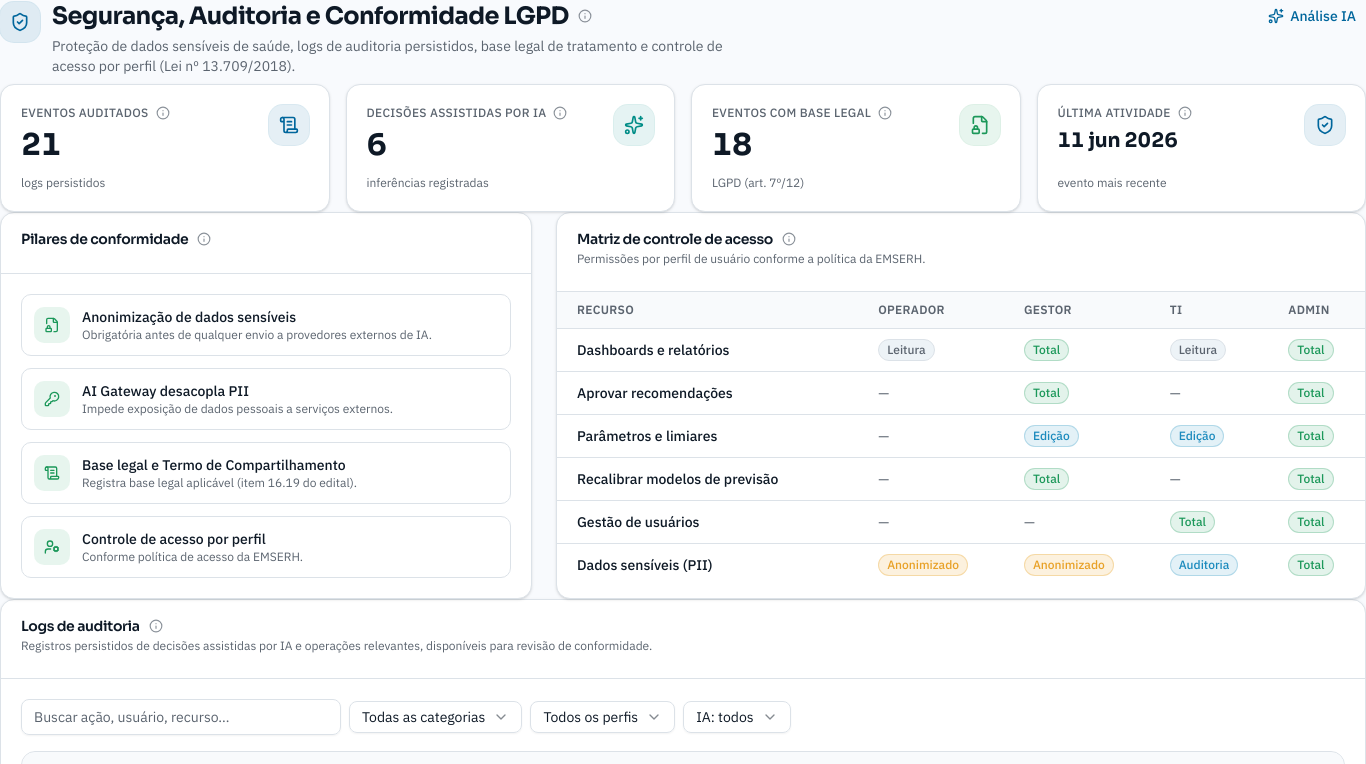
Scenario: Análise por IA nas telas › abre o modal de análise por IA em Segurança
Step 1. Click the button "Análise IA" → {"x": 1312, "y": 16}, box top-left (1258, 0), bottom-right (1365, 32)
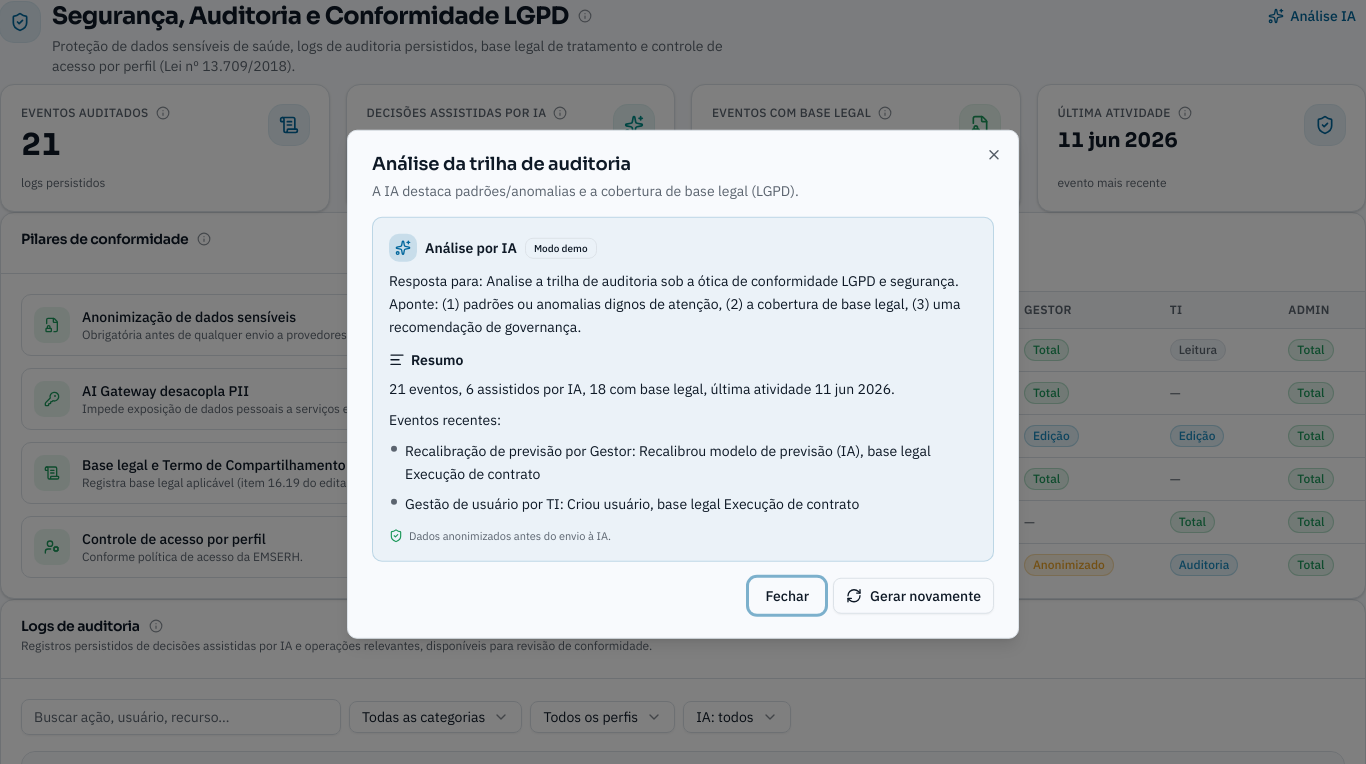
Result: the text "Análise por IA" is shown at top-left (425, 238), bottom-right (517, 258)
Result: the text "Resposta para:" is shown at top-left (389, 272), bottom-right (960, 335)
